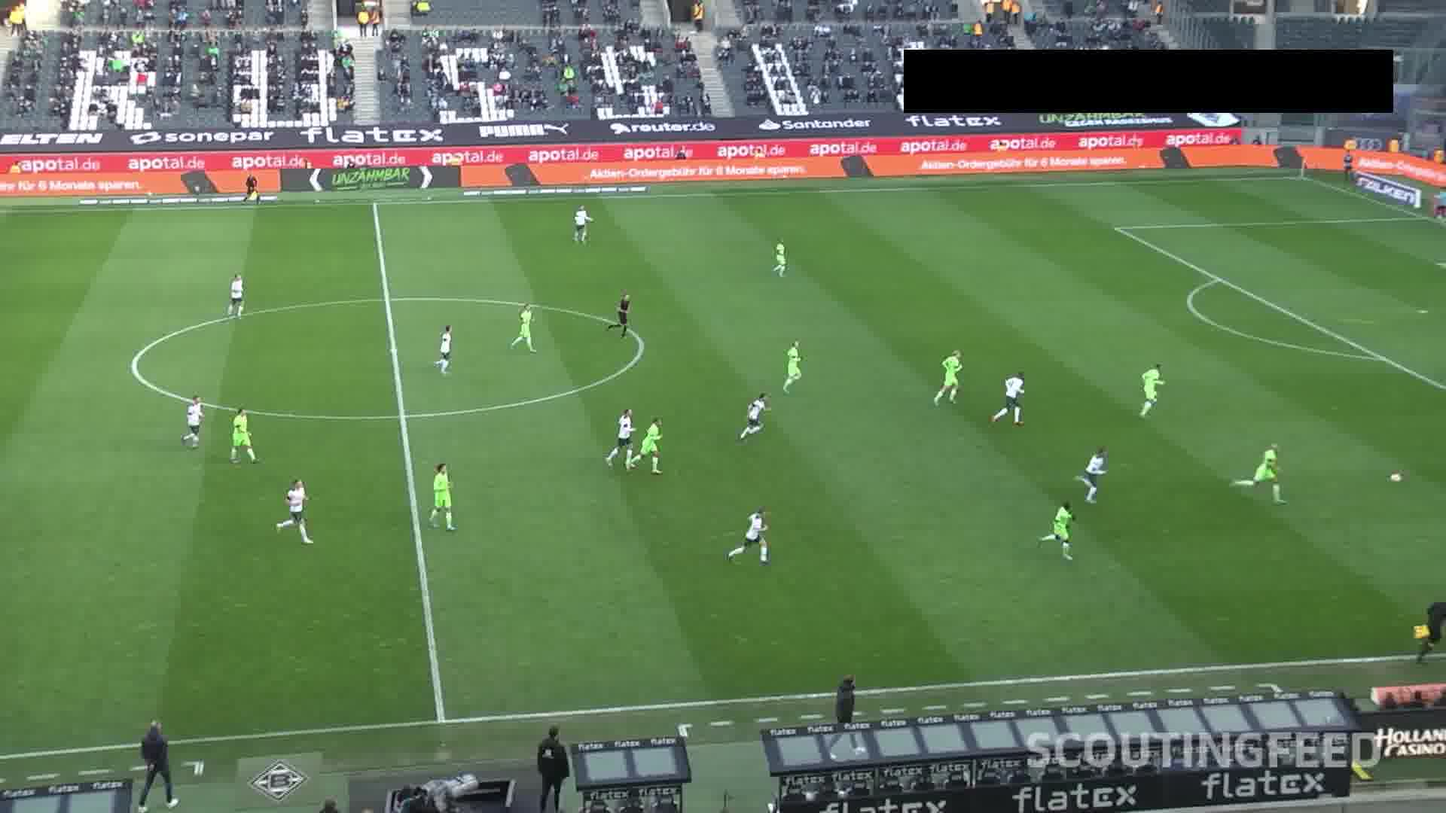ball: (1381, 468, 1408, 487)
coach_staff: (117, 703, 181, 803), (825, 660, 857, 725)
player: (1234, 438, 1283, 508), (1072, 439, 1112, 507), (729, 507, 772, 567), (277, 477, 313, 547), (428, 457, 462, 531), (935, 336, 965, 408), (602, 404, 635, 469), (1042, 504, 1078, 562), (995, 368, 1029, 428), (228, 403, 257, 462), (641, 415, 670, 473), (1137, 356, 1161, 420), (783, 327, 808, 388), (179, 386, 205, 444), (513, 304, 538, 356), (742, 386, 767, 437), (432, 316, 453, 371), (762, 243, 792, 279), (226, 268, 246, 320), (567, 205, 595, 241)
referee: (1405, 587, 1441, 657), (596, 286, 639, 343), (232, 173, 260, 203)
